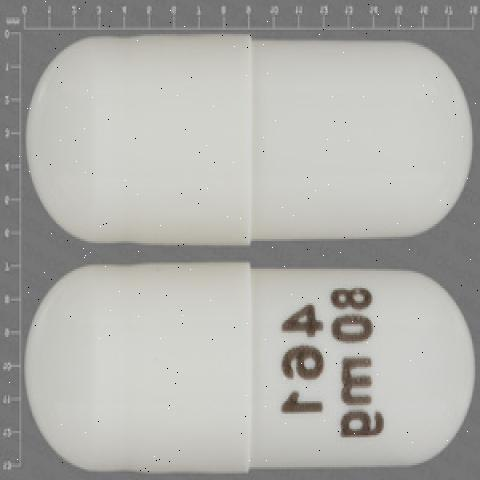Pill: (16, 18, 480, 253), (22, 258, 480, 474)
